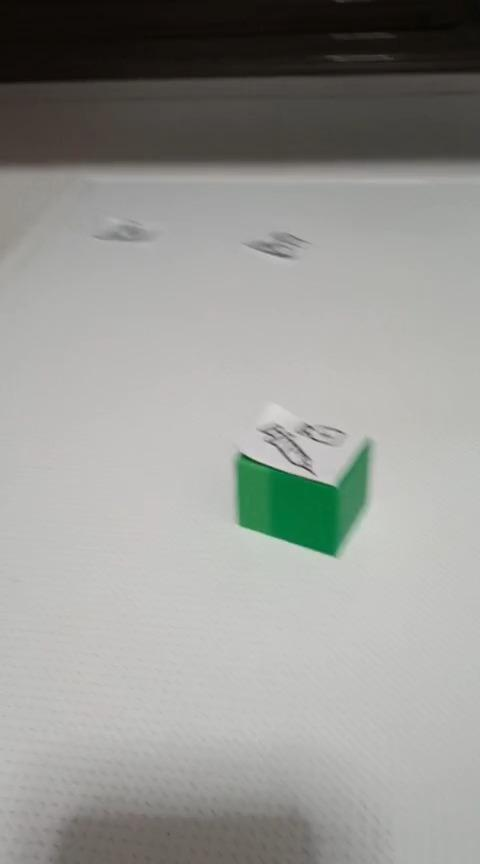antiseptic cream: (232, 400, 374, 558)
